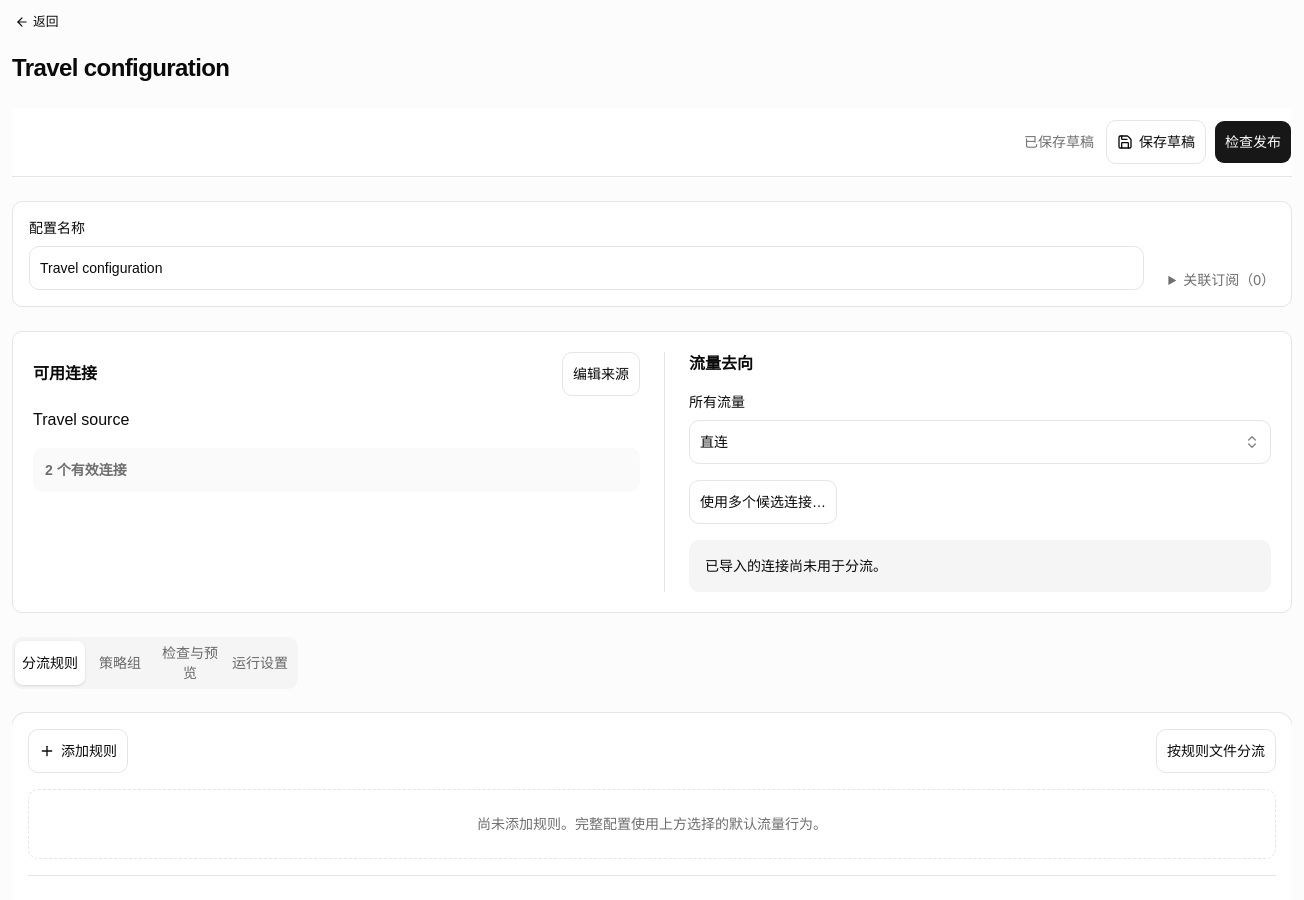
Test: offers one strategy-group action in an empty panel and retains it after adding
Expected: the text "2 个有效连接" is shown, [45,462,127,478]
Click the tab "策略组" at (120, 663), box [85,641,155,685]
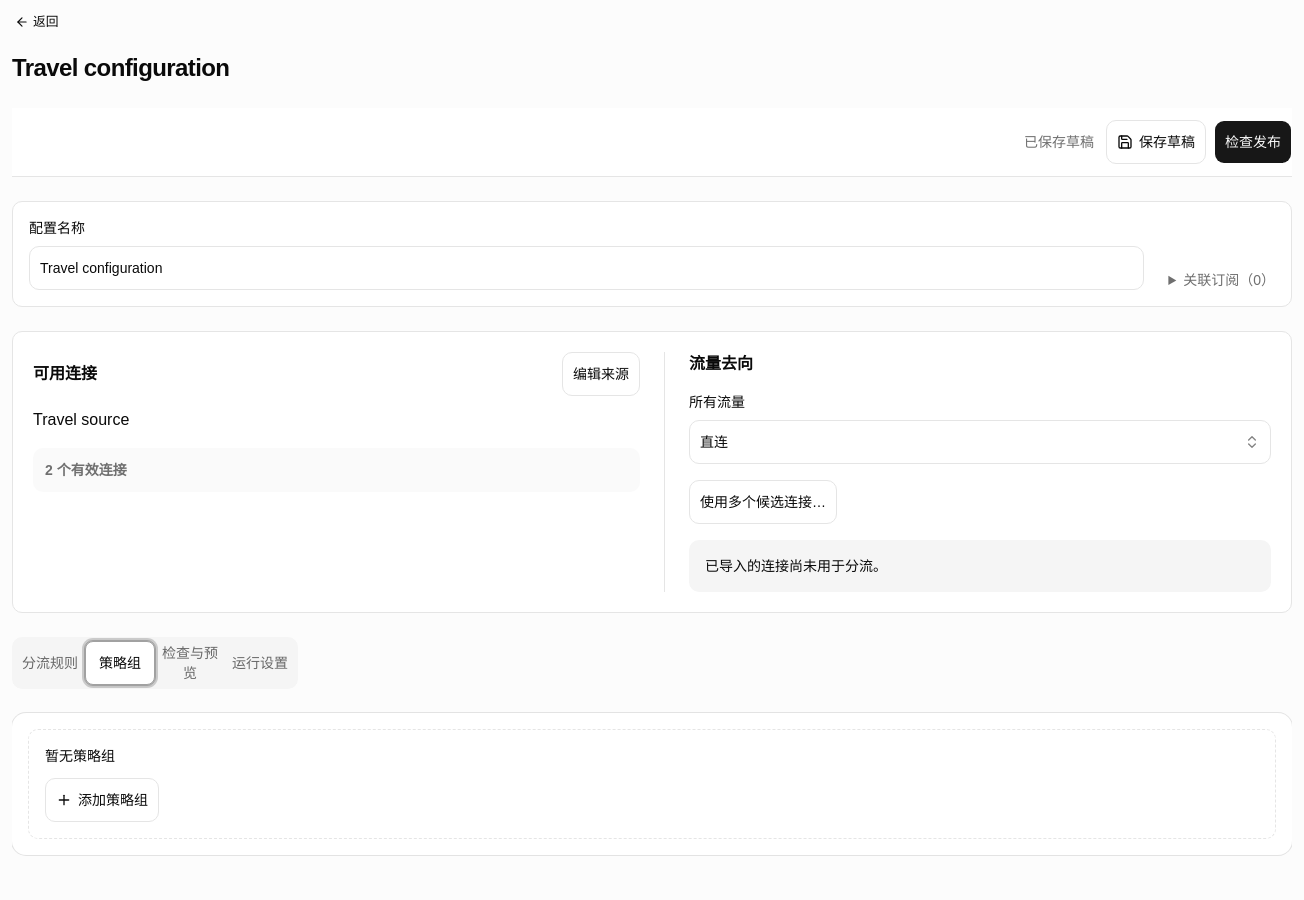
Expected: the text "暂无策略组" is shown, [45,748,115,764]
Expected: the number of buttons "添加策略组" is 1
Click the button "添加策略组" at (102, 800), box [45,778,159,822]
(page scrolled)
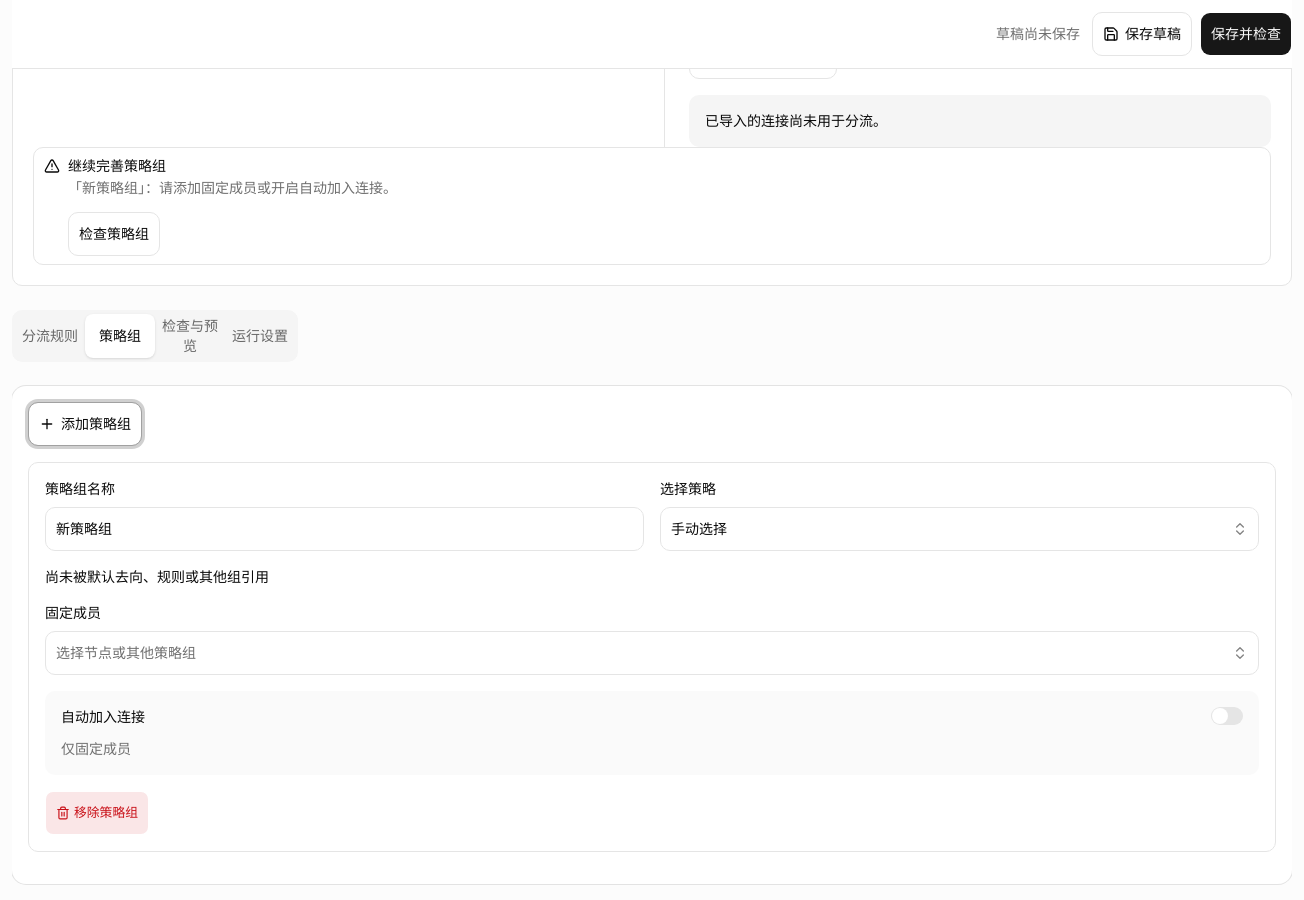
Expected: the text "暂无策略组" is gone
Expected: the field labelled "策略组名称" is shown, [45,507,644,551]
Expected: the number of buttons "添加策略组" is 1, [28,402,142,446]
